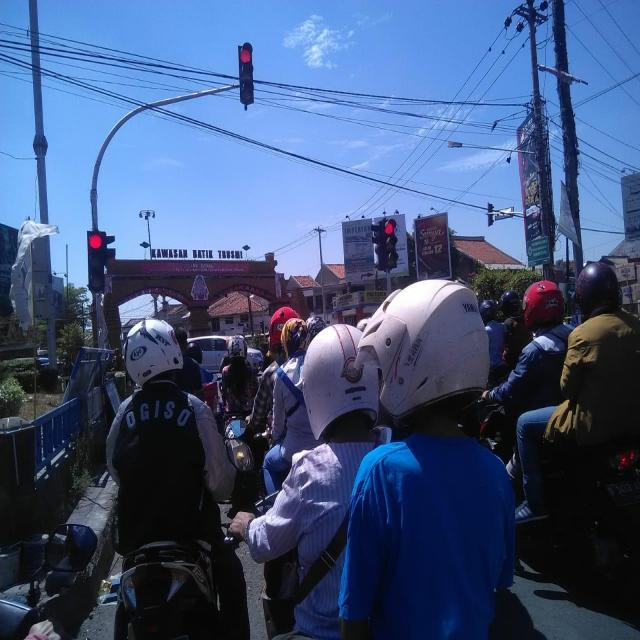red_light: (237, 39, 256, 106), (86, 233, 103, 294), (381, 217, 396, 268)
